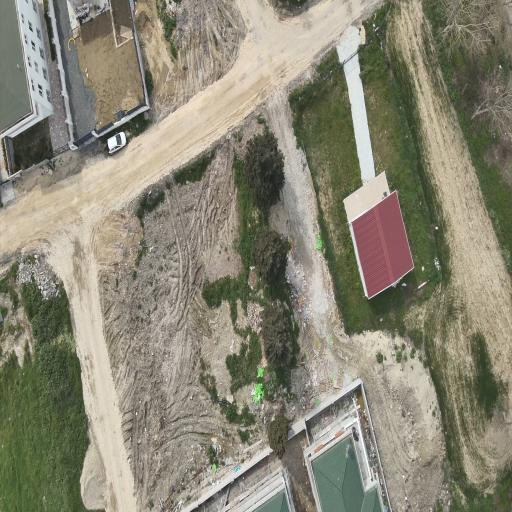car: (107, 131, 127, 154)
